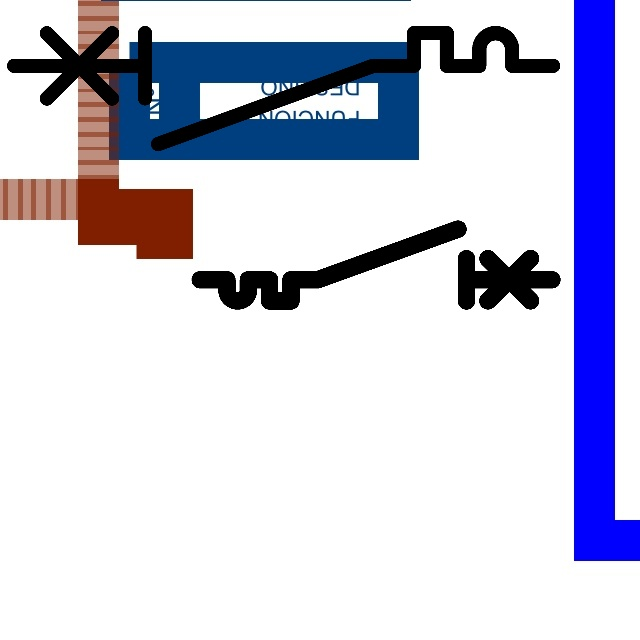interruptor_termomagnetico: (0, 19, 567, 158), (191, 220, 561, 310)
